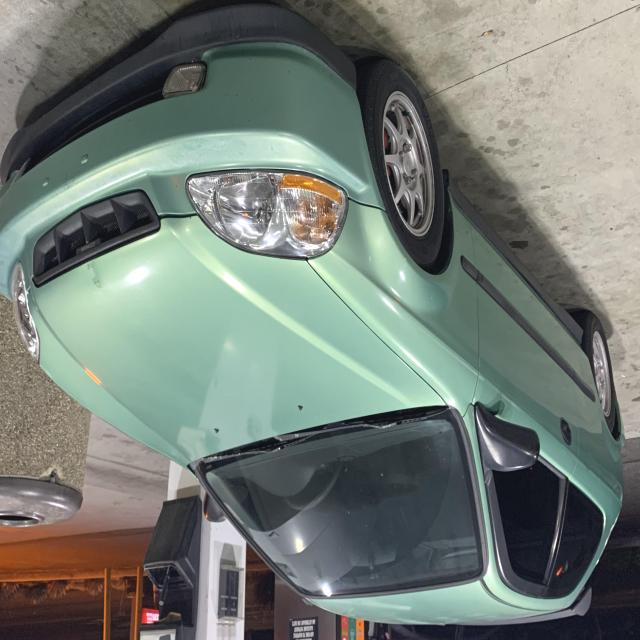green: (0, 8, 622, 628)
